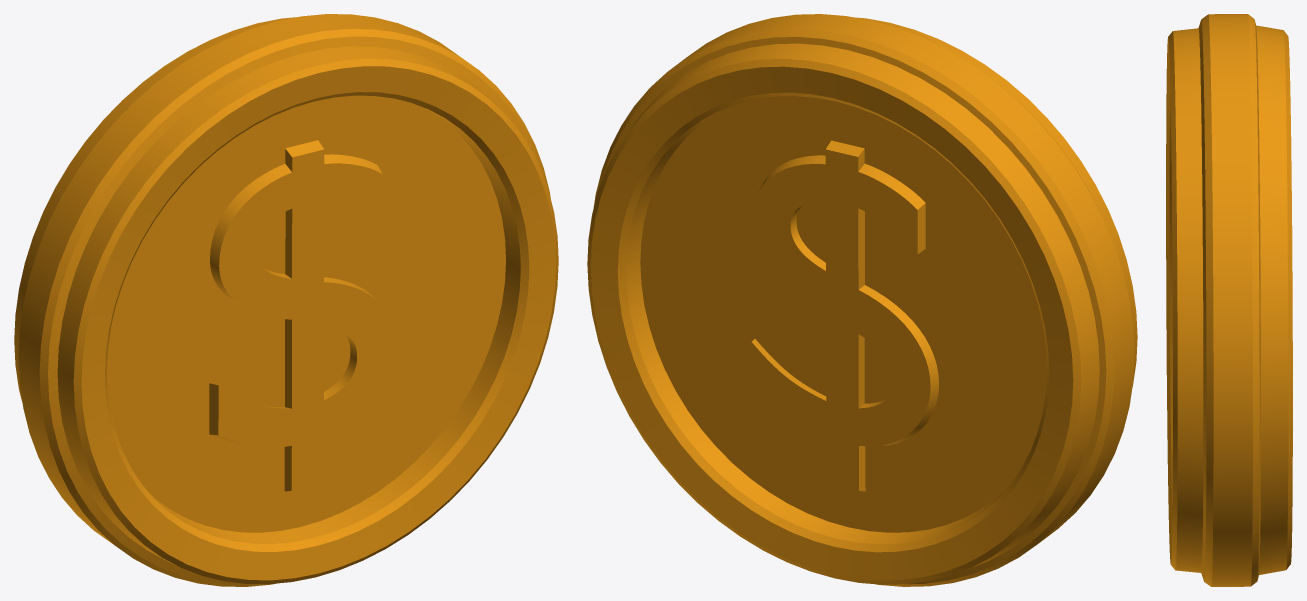
Rendered from Coin.fbx.
The picture shows the model from 3 angles, left to right: view 1: azimuth 30°, elevation 25°; view 2: azimuth 150°, elevation 25°; view 3: azimuth 270°, elevation 25°; orthographic projection. The views are drawn at different scales.
Visible parts, largest first — view 1: Coin; view 2: Coin; view 3: Coin.
Part boxes in pixels (box(x1,y1,x2,y2)): Coin: box(14, 14, 558, 586); Coin: box(587, 14, 1137, 586); Coin: box(1166, 14, 1292, 586).
Bounding box in the file's own units: 0.9898 × 0.989 × 0.2188.
